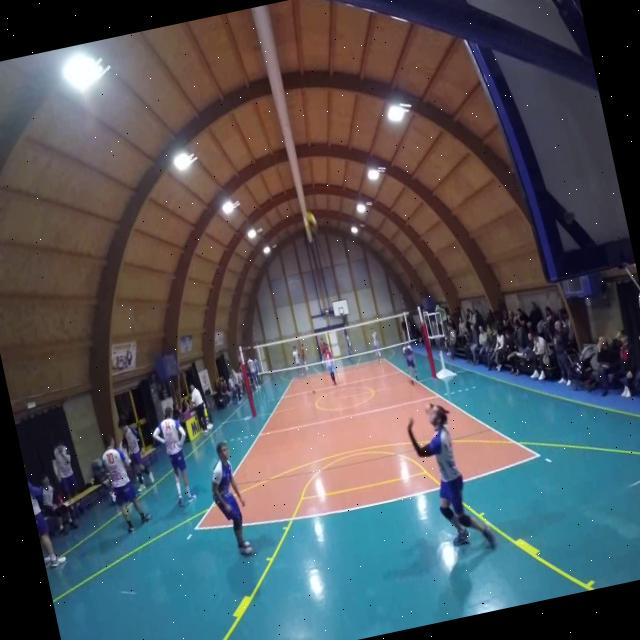Volleyball: (300, 206, 322, 238)
